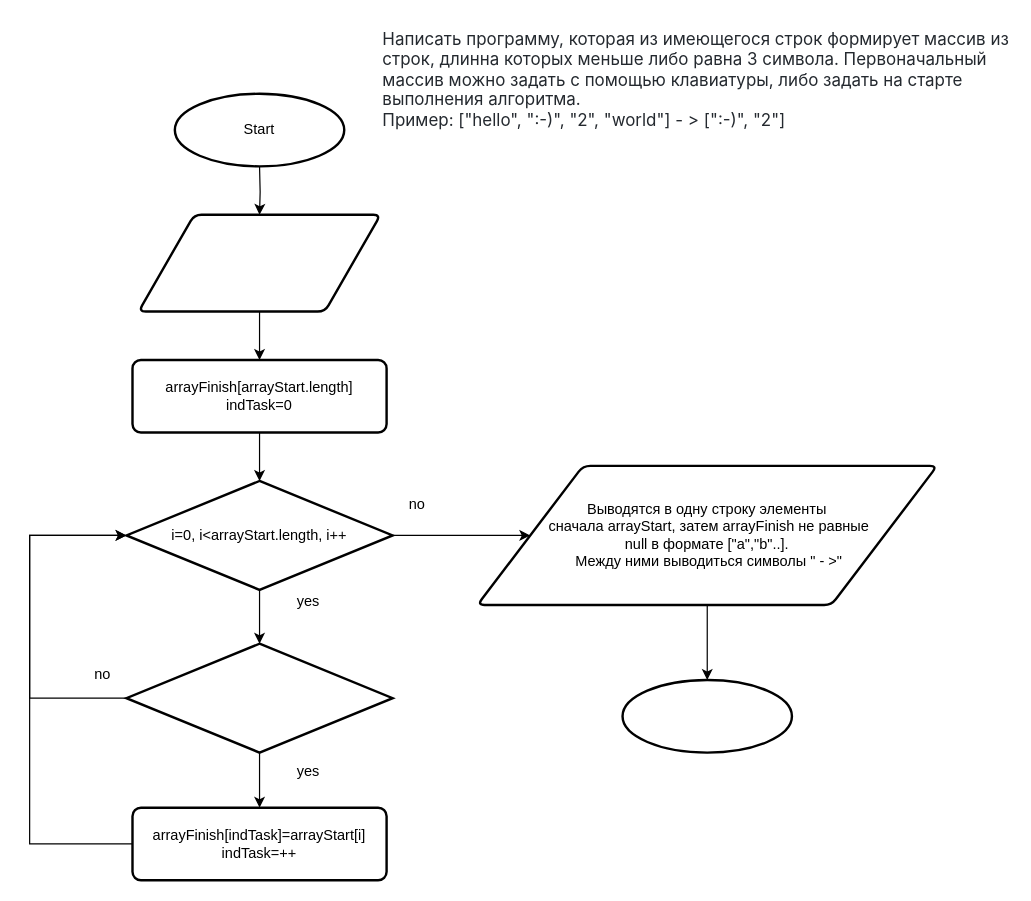
This 1031x901 diagram has some shape labels left out. The shapes that lost their labels are listed below. From the top down, each one's centre as x and y in pixels, then its label:
At pixel 259 262: "arrayStart [] (вводиться необходимое количество элементов в консоли)".
At pixel 259 697: "arrayStart[i].Length<=3".
At pixel 707 715: "End".
